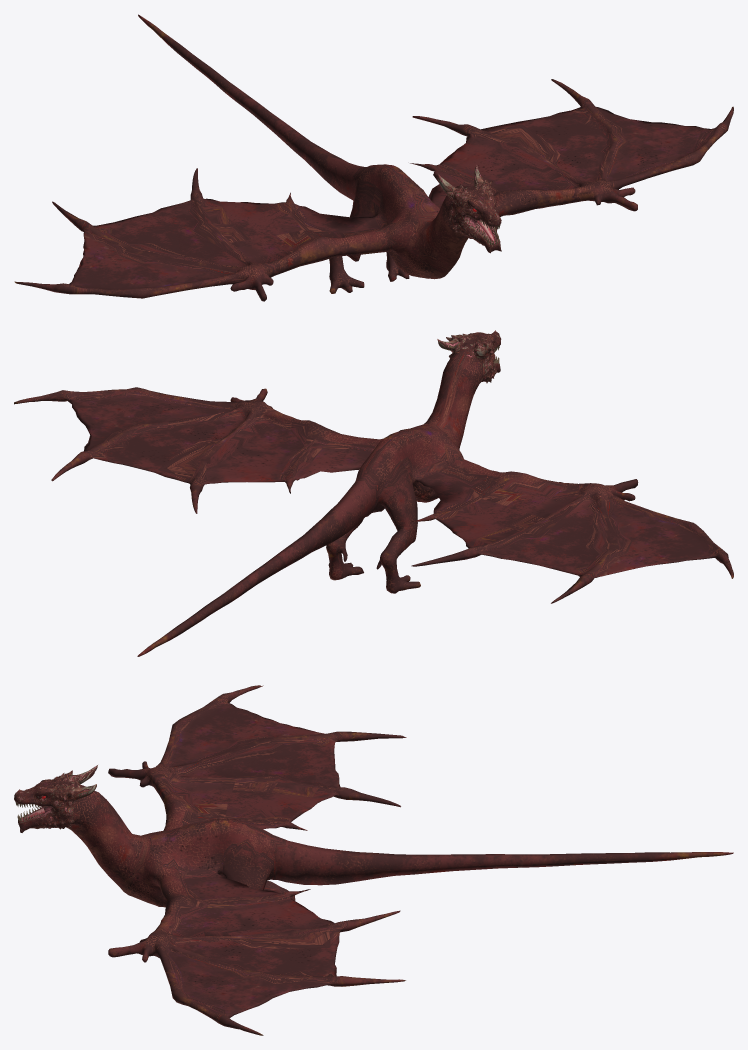
The model's file is dragon.glb.
3 views of the same model, one above another, from view 1: azimuth 30°, elevation 25°; view 2: azimuth 150°, elevation 25°; view 3: azimuth 270°, elevation 25° (orthographic).
Parts seen in each view (by area): view 1: Dragon.002; view 2: Dragon.002; view 3: Dragon.002.
Part boxes in pixels (x1,y1,x2,y2): Dragon.002: (14, 14, 733, 301); Dragon.002: (14, 330, 733, 656); Dragon.002: (14, 685, 733, 1035).
Size of the model in its own units: 314 by 72.96 by 273.
11 materials, 9 textured.
